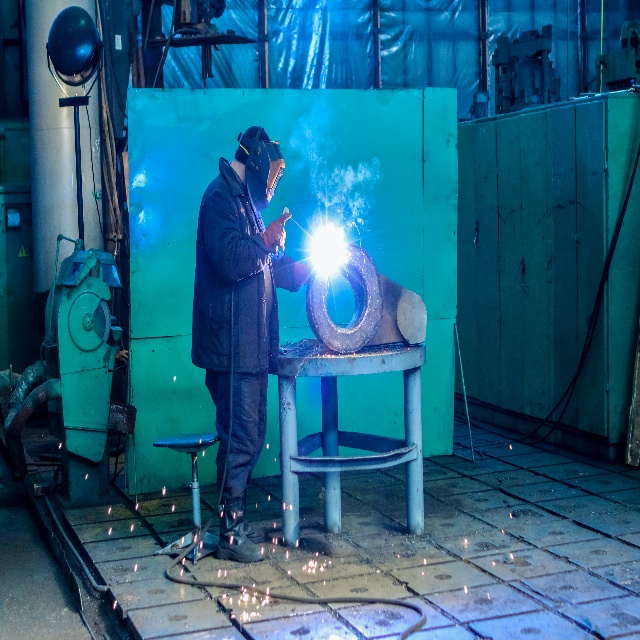Guantes: (260, 212, 292, 250), (293, 259, 313, 288)
